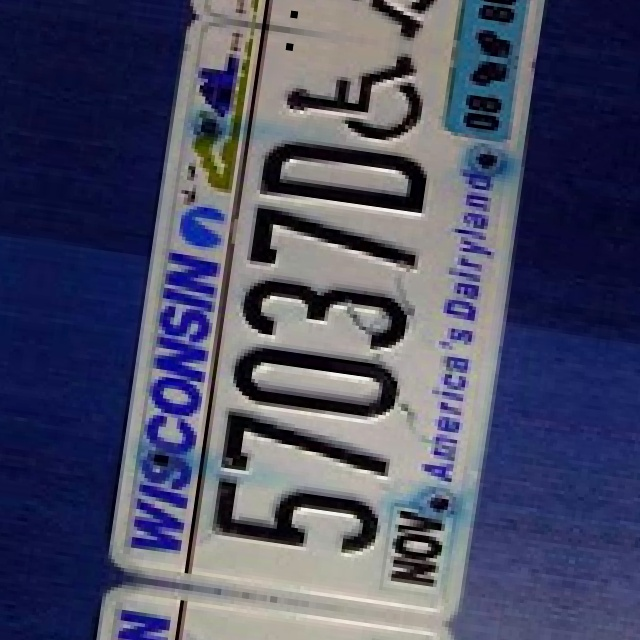ISA: (278, 38, 431, 147), (293, 0, 446, 41)
